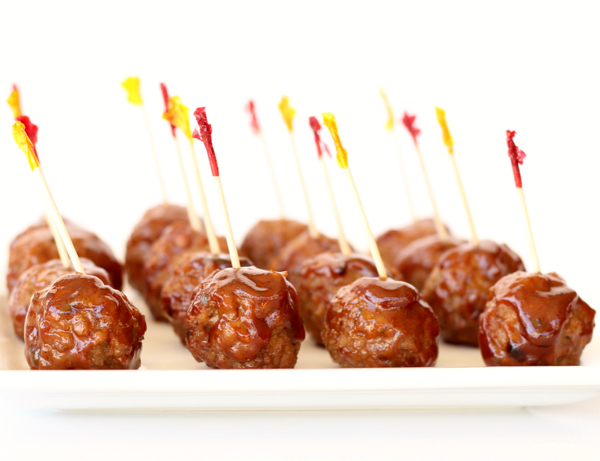meatballs: (163, 251, 306, 365), (457, 262, 592, 362), (27, 258, 139, 368), (316, 267, 434, 356)
